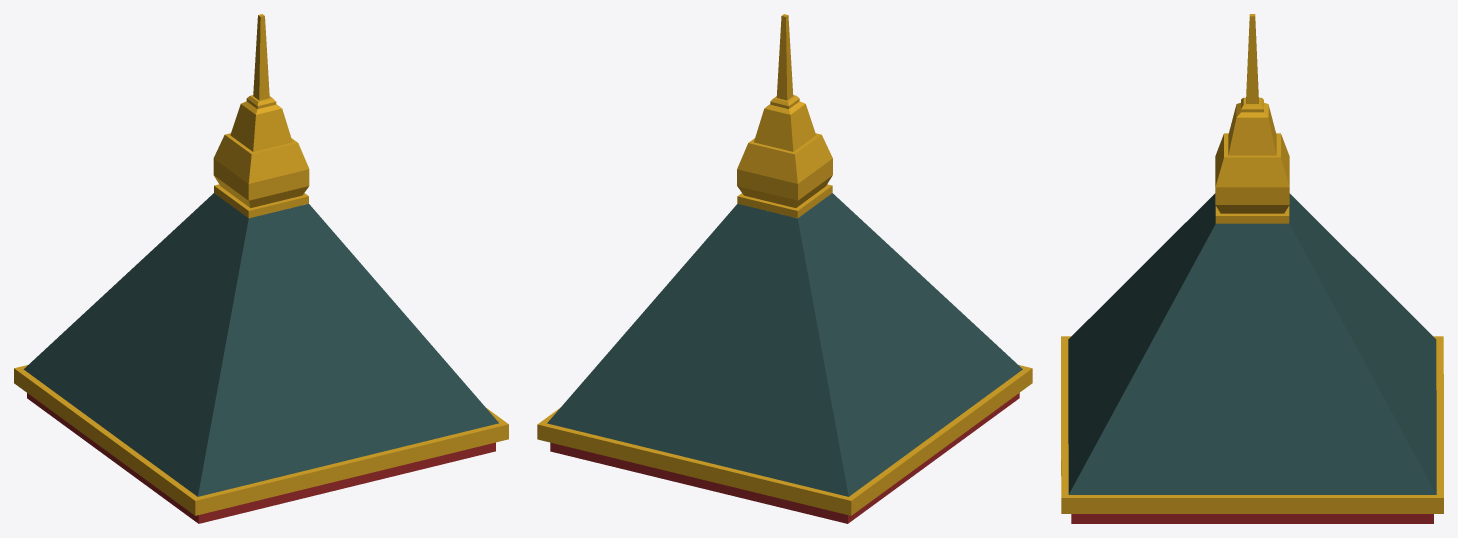
File: Asian_Building_Temple_Roof_01.FBX
3 renders of one model, left to right at view 1: azimuth 30°, elevation 25°; view 2: azimuth 150°, elevation 25°; view 3: azimuth 270°, elevation 25°, orthographic. The views are drawn at different scales.
Visible parts, largest first — view 1: Asian_Building_Temple_Roof_01; view 2: Asian_Building_Temple_Roof_01; view 3: Asian_Building_Temple_Roof_01.
Part boxes in pixels (x1=…): Asian_Building_Temple_Roof_01: x1=14, y1=14, x2=508, y2=523; Asian_Building_Temple_Roof_01: x1=537, y1=14, x2=1032, y2=523; Asian_Building_Temple_Roof_01: x1=1061, y1=14, x2=1443, y2=523.
Bounding box in the file's own units: 11800 × 14710 × 11813.
